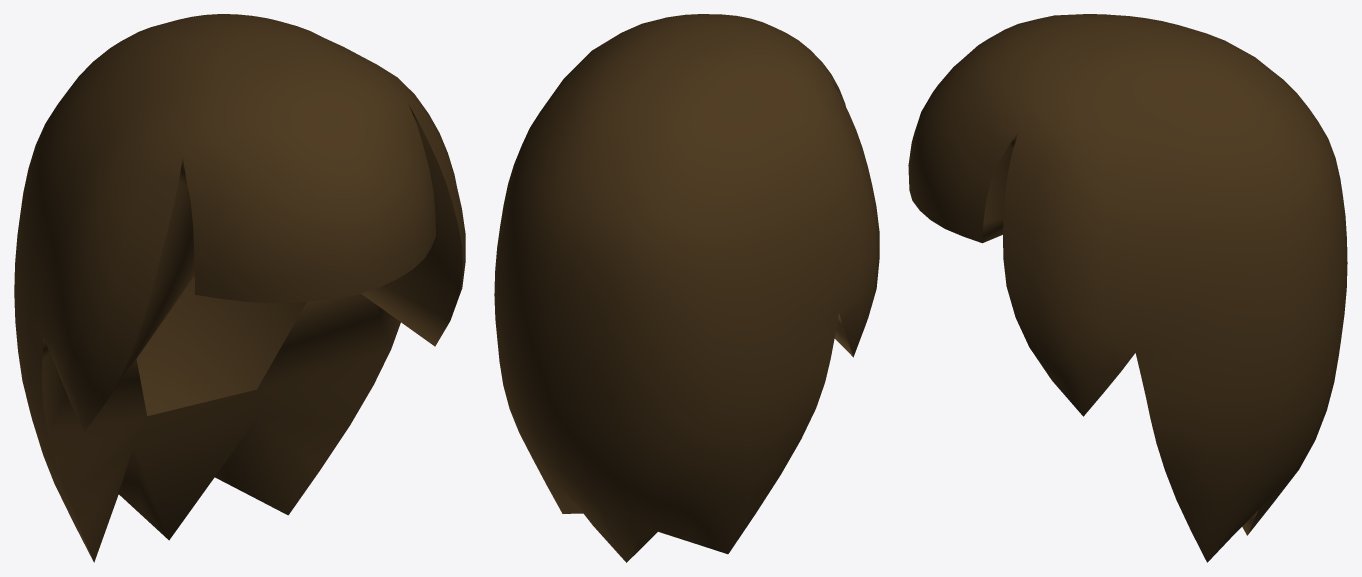
Rendered from hair_hair_092.gltf.
3 renders of one model, left to right at view 1: azimuth 30°, elevation 25°; view 2: azimuth 150°, elevation 25°; view 3: azimuth 270°, elevation 25°, orthographic. The views are drawn at different scales.
Parts seen in each view (by area): view 1: hair.092; view 2: hair.092; view 3: hair.092.
Part boxes in pixels (bbox=[...]): hair.092: bbox=[14, 14, 465, 562]; hair.092: bbox=[494, 14, 879, 562]; hair.092: bbox=[908, 14, 1347, 562].
Bounding box in the file's own units: 0.7504 × 1.02 × 0.8098.
